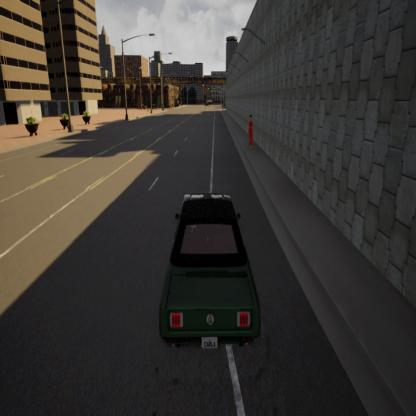Cars: (141, 181, 267, 367)
Pedestrian: (245, 112, 257, 153)
